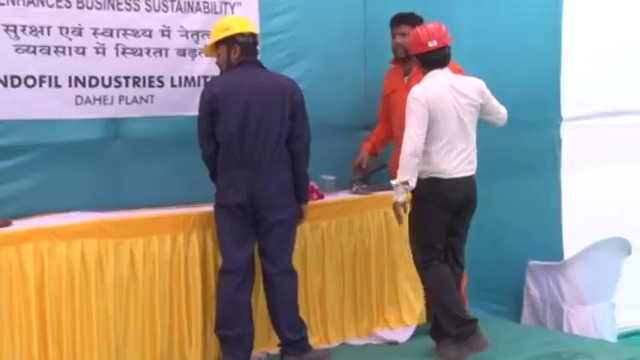helmet: (205, 13, 259, 57), (405, 22, 452, 54)
helmet_off: (388, 12, 422, 62)
helmet_on: (203, 13, 261, 74), (404, 23, 453, 75)
person: (197, 12, 314, 360), (394, 24, 508, 359), (354, 11, 460, 186)
